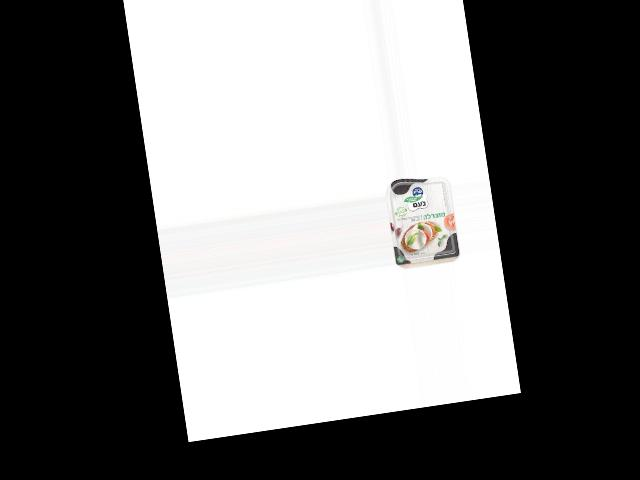cheese: (384, 173, 461, 266)
